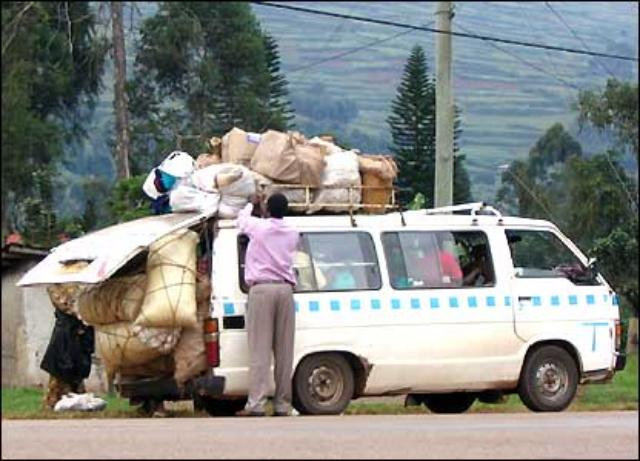van: (309, 201, 625, 411)
